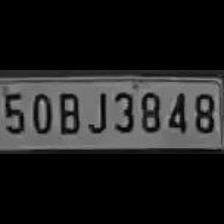0: (27, 88, 53, 134)
3: (109, 86, 134, 134)
4: (162, 88, 188, 134)
5: (0, 86, 26, 136)
8: (134, 86, 162, 134), (189, 88, 217, 134)
B: (54, 86, 82, 136)
J: (83, 87, 109, 135)
